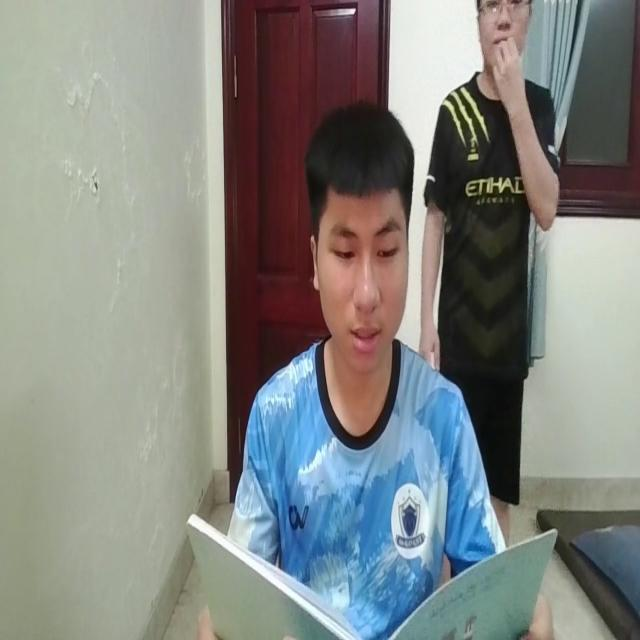book: (178, 508, 555, 640)
extra_person: (419, 0, 558, 533)
student: (228, 100, 492, 557)
